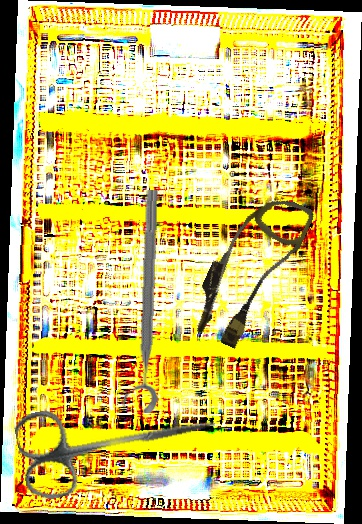Cannula: (184, 181, 316, 357)
Fixation Ring: (120, 189, 165, 414)
Iris Scissors: (12, 376, 223, 504)
